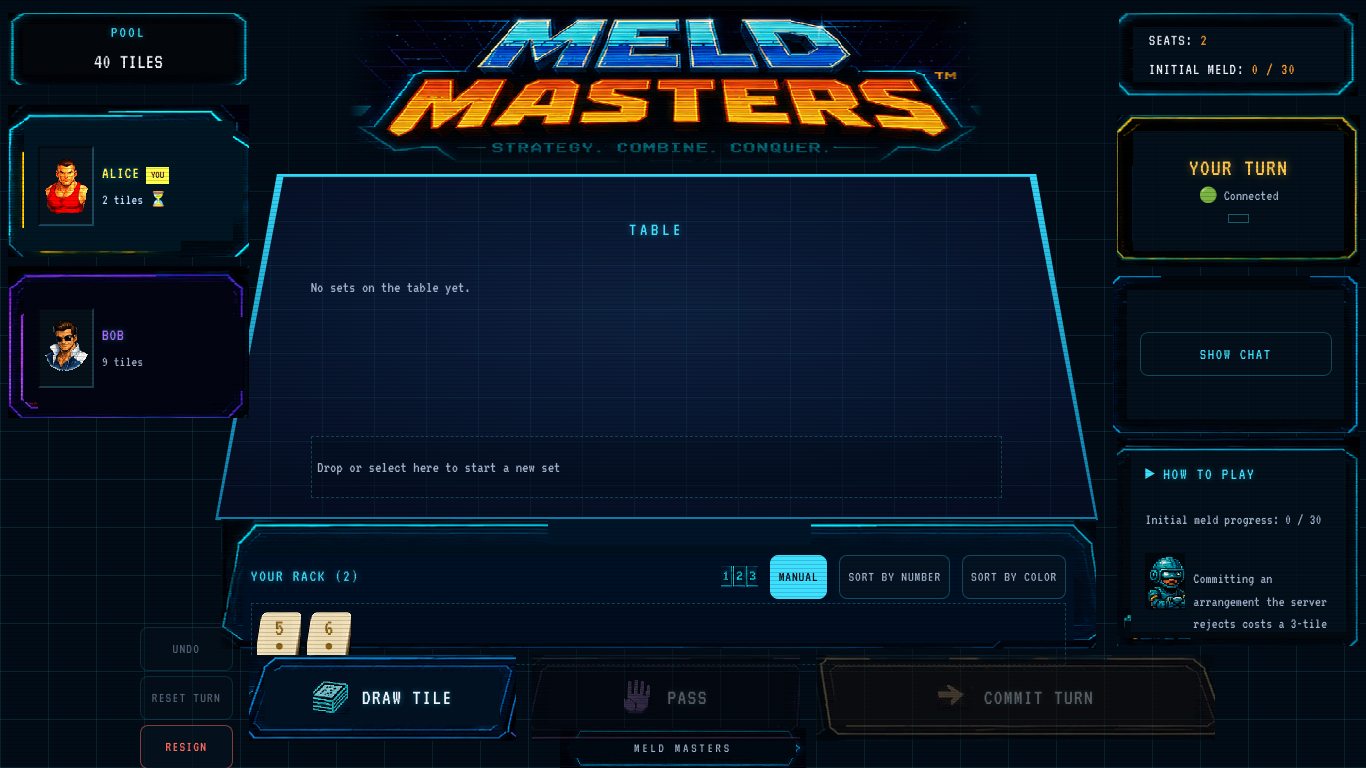
TabletopPage layout -- actions (Phase 8) › resign confirmation still works
What coordinates should you click on to do the following:
click the button "Resign"
I would click on:
 (186, 747)
Its box is [140,725,233,767].
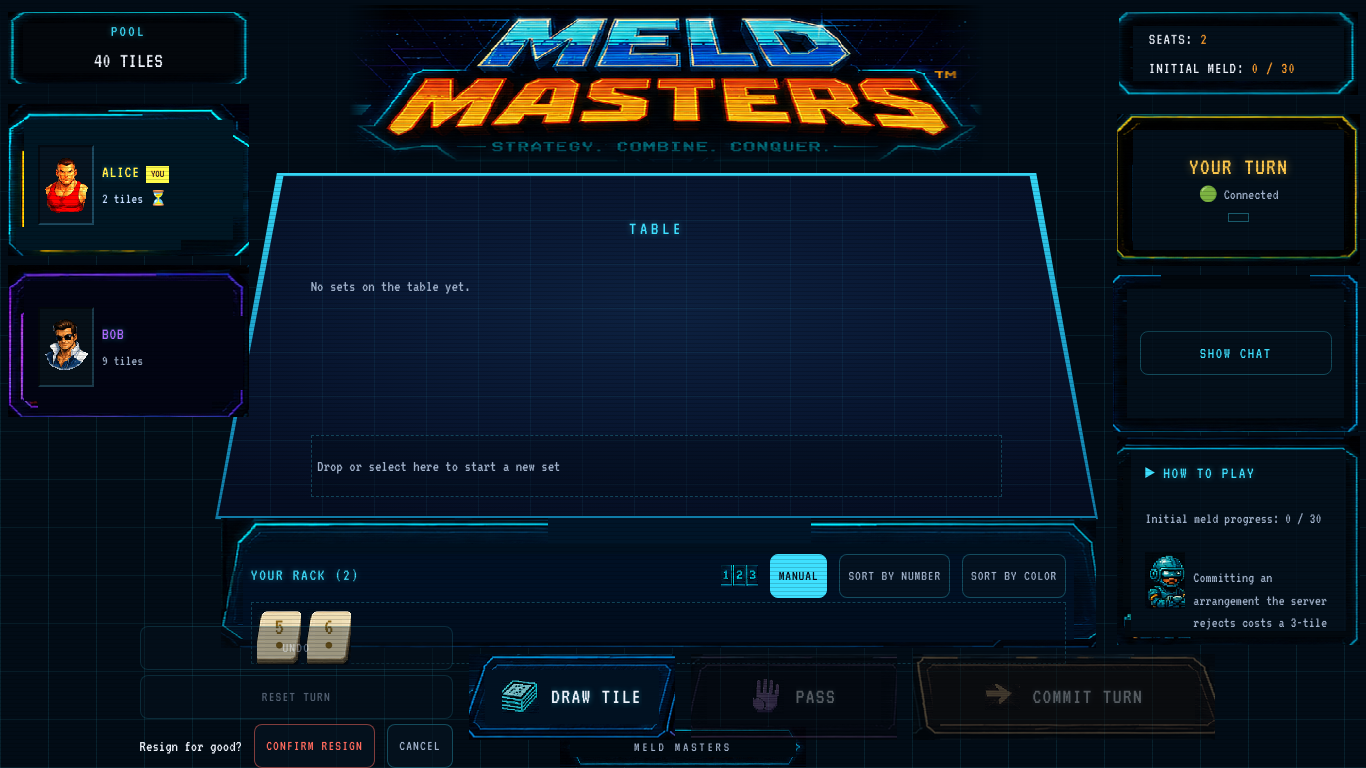
Result: the text "Resign for good?" is shown at [140,734,242,758]
Result: the button "Confirm resign" is shown at [254,724,375,767]
What coordinates should you click on to do the following:
click the button "Cancel"
I would click on:
 (420, 746)
Its box is [387,724,453,767].
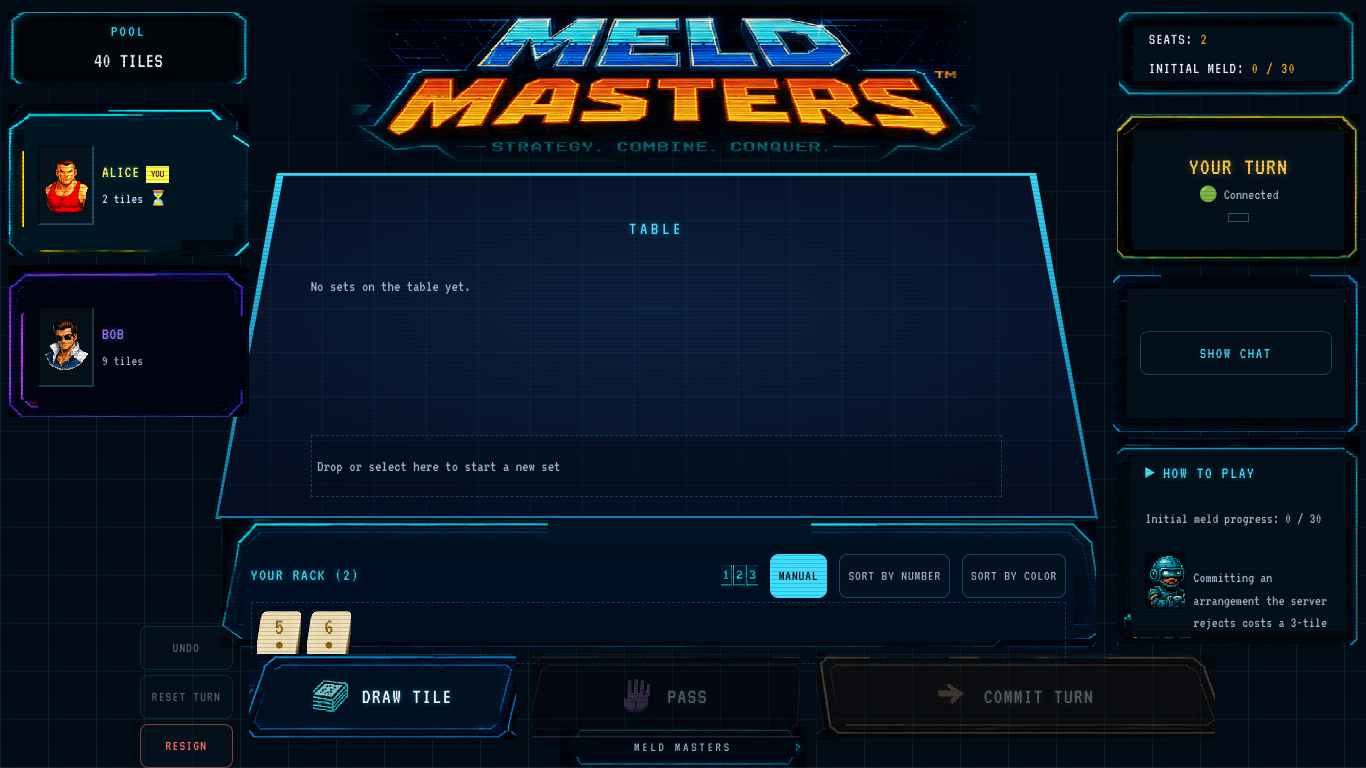
Expected: the button "Resign" is shown, [140,724,233,767]
Result: the text "Resign for good?" is gone
